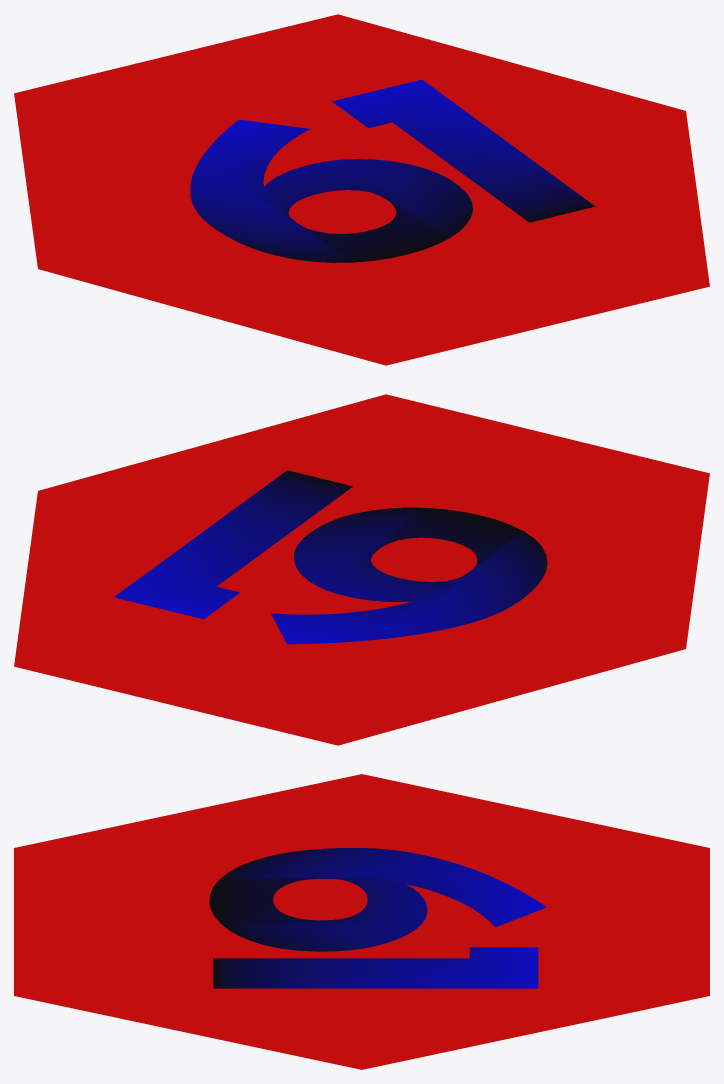
File: SM_Number_61.fbx
The picture shows the model from 3 angles, top to bottom: view 1: azimuth 30°, elevation 25°; view 2: azimuth 150°, elevation 25°; view 3: azimuth 270°, elevation 25°; orthographic projection. The views are drawn at different scales.
Parts seen in each view (by area): view 1: FBX_OUT; view 2: FBX_OUT; view 3: FBX_OUT.
Boxes of the visible parts, x1,y1,x2,y2 form: FBX_OUT: [14, 14, 709, 365]; FBX_OUT: [14, 394, 709, 745]; FBX_OUT: [14, 774, 709, 1069].
Size of the model in its own units: 50 by 0.2917 by 49.71.
